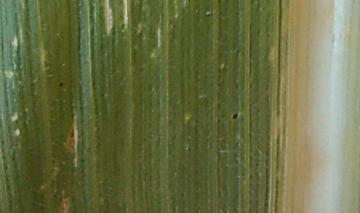tarspot: (232, 112, 239, 119), (57, 82, 65, 88)
